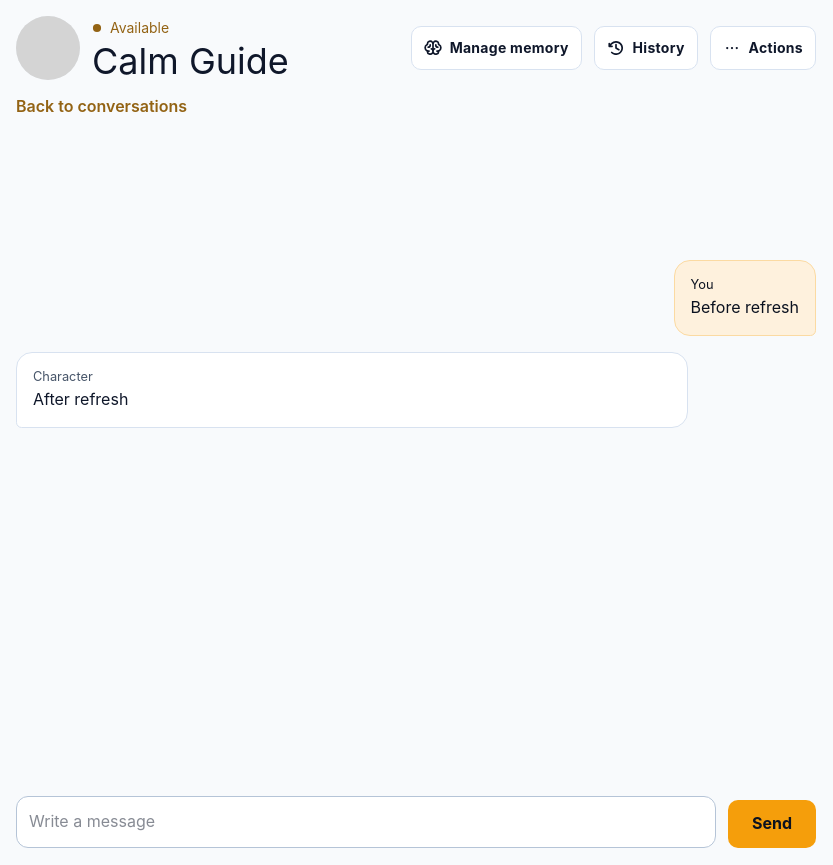
Scenario: authoritative refreshes do not re-enter but client-only user and attempt messages do
Type "Client message" into the text box labelled "message" at (366, 822), box [16, 796, 716, 848]
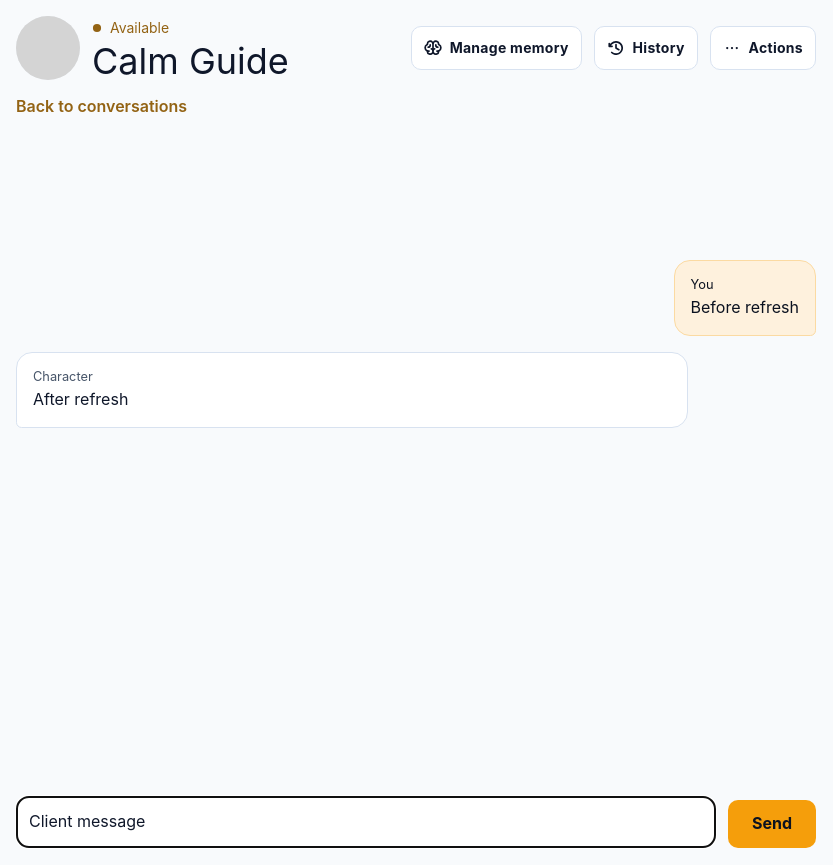
Click the button "Send" at (772, 824), box [728, 800, 816, 848]
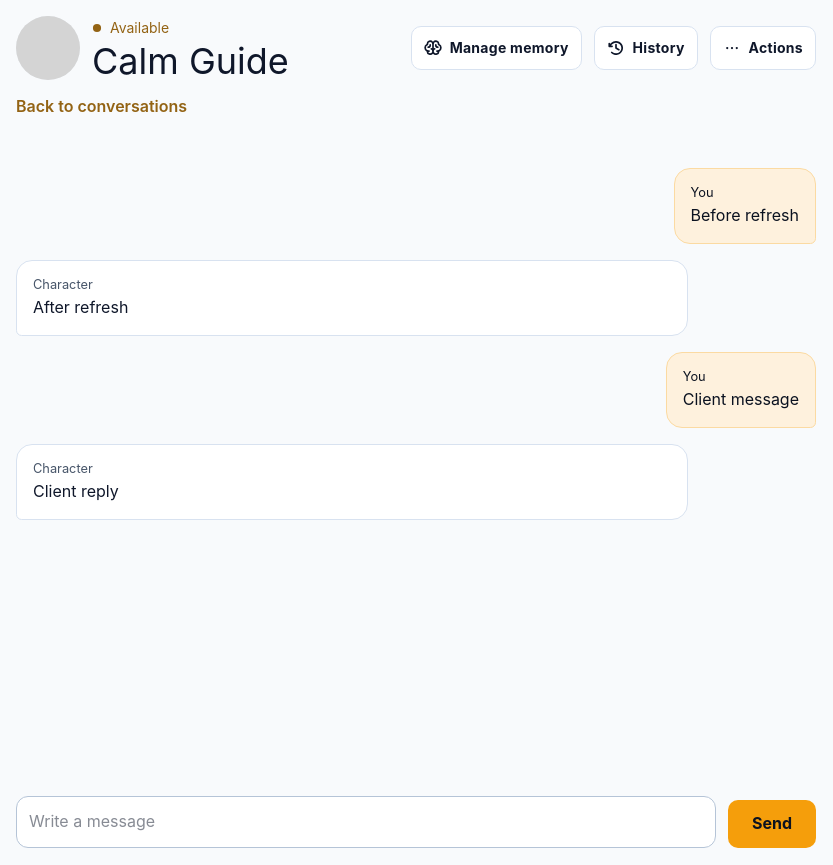
Check: the text "Client message" is shown, box [683, 387, 799, 413]
Check: the text "Client reply" is shown, box [33, 481, 119, 501]
